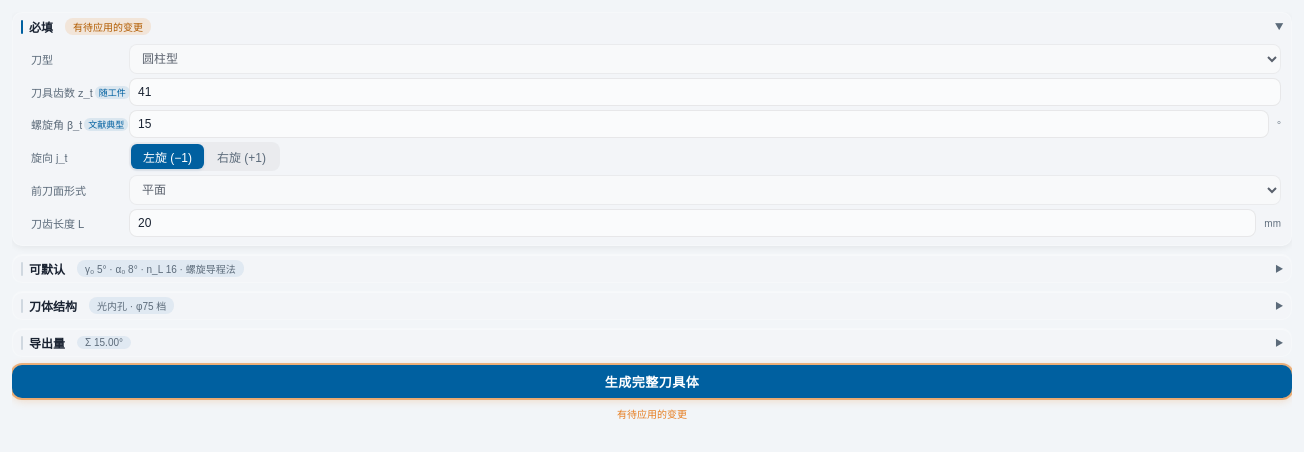
ToolSolidPanel — 刀体结构分组（K-3.2 / ADR-021） › 后端软警原样展示（body_description.warnings → body-warnings 节点）
Click the button with test id "generate-tool-ring". click: x=652, y=382
box: [12,365,1292,398]
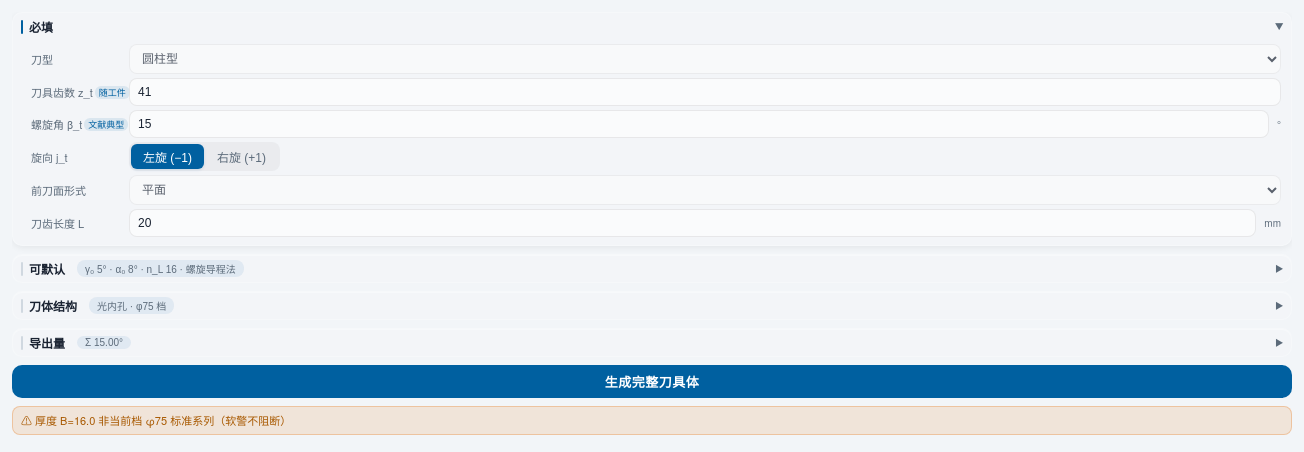
Now the number of elements with test id "body-warnings" is 1, box [12,406,1292,435]
Now the text with test id "body-warnings" shows "软警不阻断", box [21,412,291,428]
